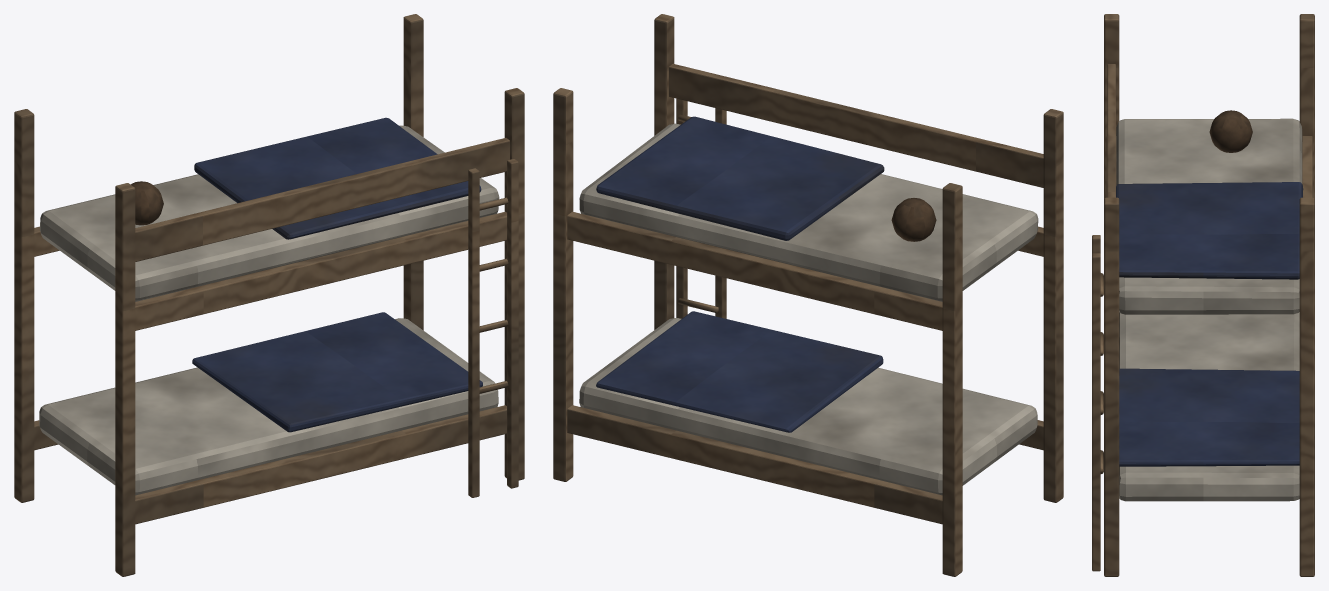
The model's file is B03_bunk_bed.glb.
The picture shows the model from 3 angles, left to right: view 1: azimuth 30°, elevation 25°; view 2: azimuth 150°, elevation 25°; view 3: azimuth 270°, elevation 25°; orthographic projection. The views are drawn at different scales.
Visible parts, largest first — view 1: B03_bunk_bed; view 2: B03_bunk_bed; view 3: B03_bunk_bed.
Boxes of the visible parts, x1=… form: B03_bunk_bed: x1=14, y1=14, x2=524, y2=576; B03_bunk_bed: x1=553, y1=14, x2=1063, y2=576; B03_bunk_bed: x1=1092, y1=14, x2=1314, y2=576.
Size of the model in its own units: 2 by 1.84 by 0.9903.
4 materials, 4 textured.
